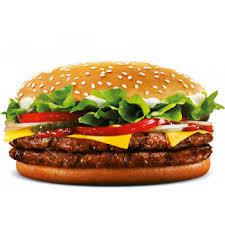hamburger: (5, 60, 219, 186)
